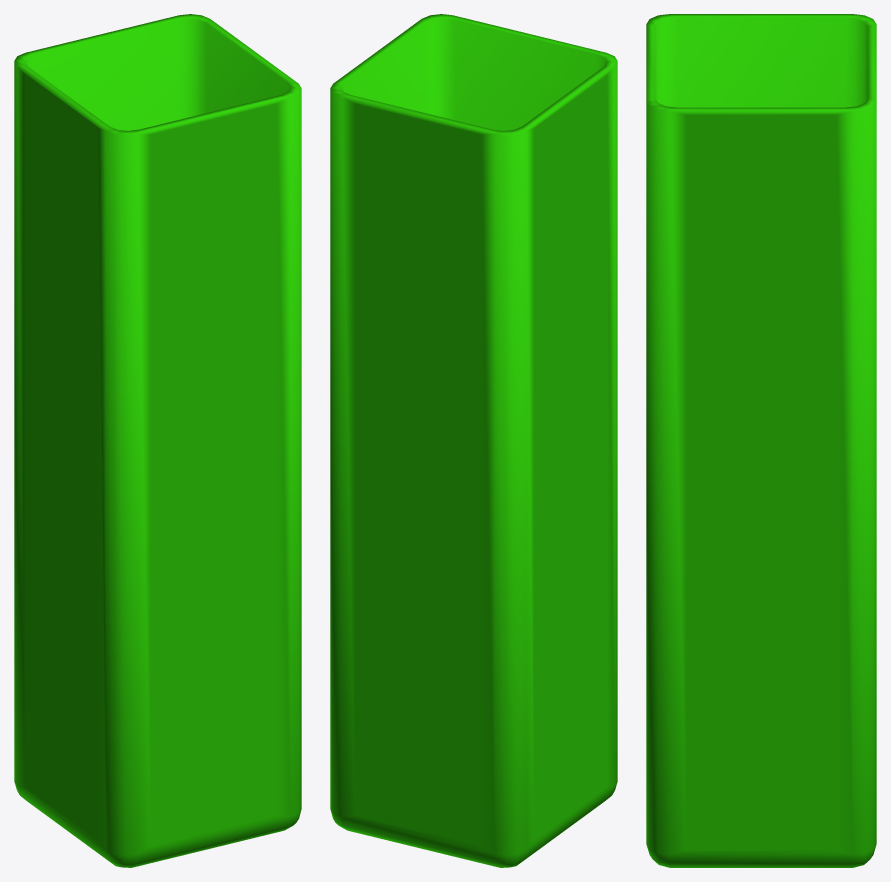
File: TestTube_Container.fbx
The picture shows the model from 3 angles, left to right: view 1: azimuth 30°, elevation 25°; view 2: azimuth 150°, elevation 25°; view 3: azimuth 270°, elevation 25°; orthographic projection. The views are drawn at different scales.
Parts seen in each view (by area): view 1: Container; view 2: Container; view 3: Container.
Part boxes in pixels (left/top/right/bottom): Container: left=14, top=14, right=301, bottom=867; Container: left=330, top=14, right=617, bottom=867; Container: left=646, top=14, right=876, bottom=867.
Size of the model in its own units: 3 by 11 by 3.
